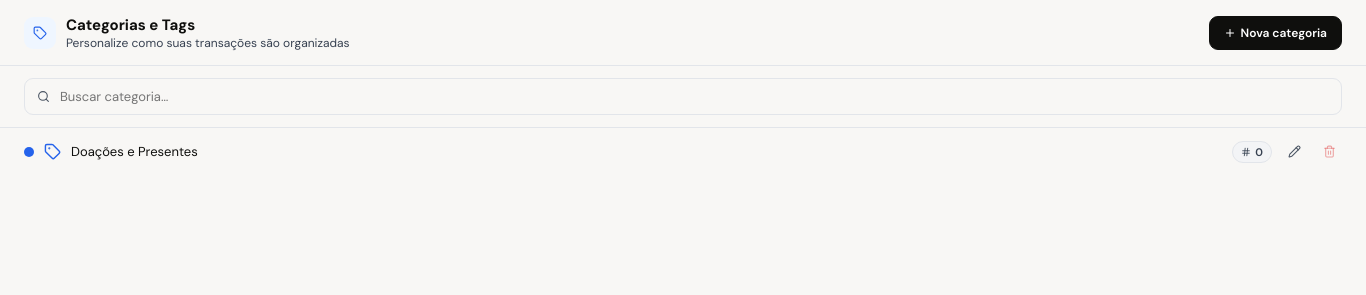
it: CategoriesTagsSettingsPanel › cria uma tag detalhe via botão + Tag
The image size is (1366, 295).
Click the button named "Expandir tags de Doações e Presentes". click: (1252, 152)
box: x1=1232 y1=140 x2=1272 y2=162
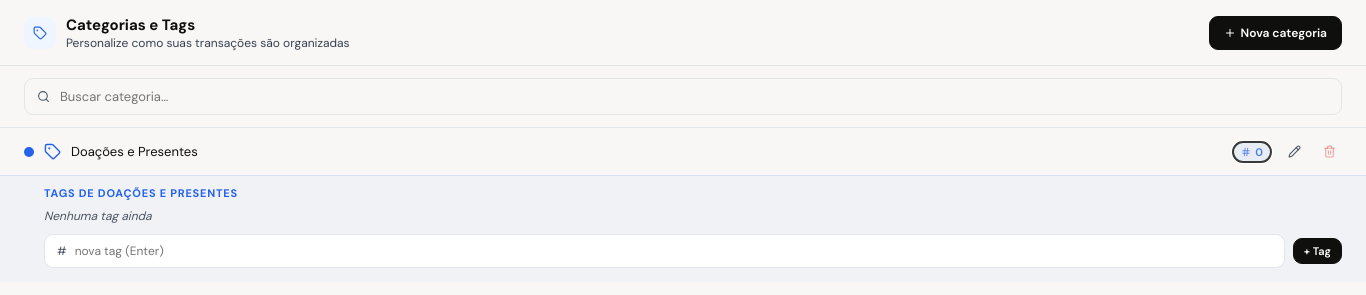
Type "Pix solidário" into the field named "Nova tag de Doações e Presentes". click: (672, 251)
box: x1=73 y1=242 x2=1272 y2=260
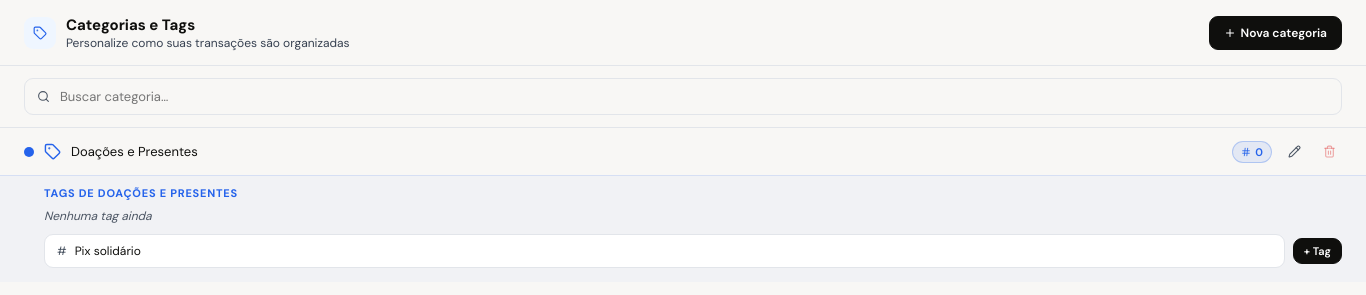
Click the button "+ Tag". click: (1317, 251)
box: x1=1293 y1=238 x2=1342 y2=264
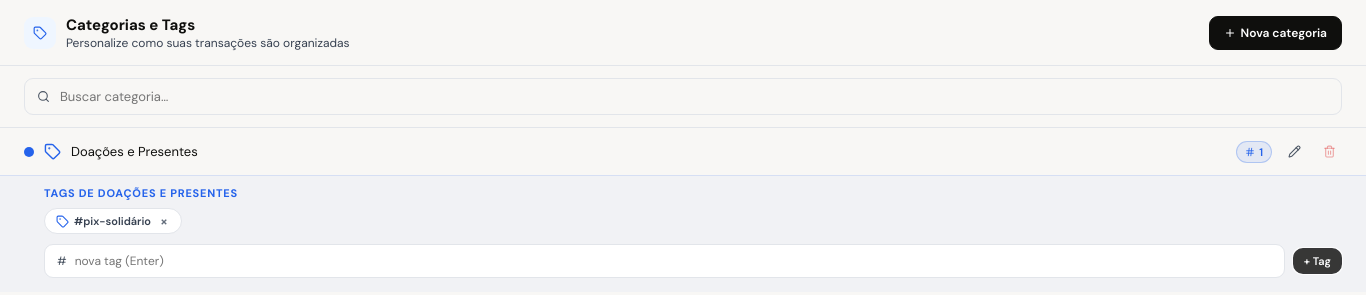
Expected: the button "#pix-solidário" is shown, x1=55 y1=213 x2=152 y2=229
